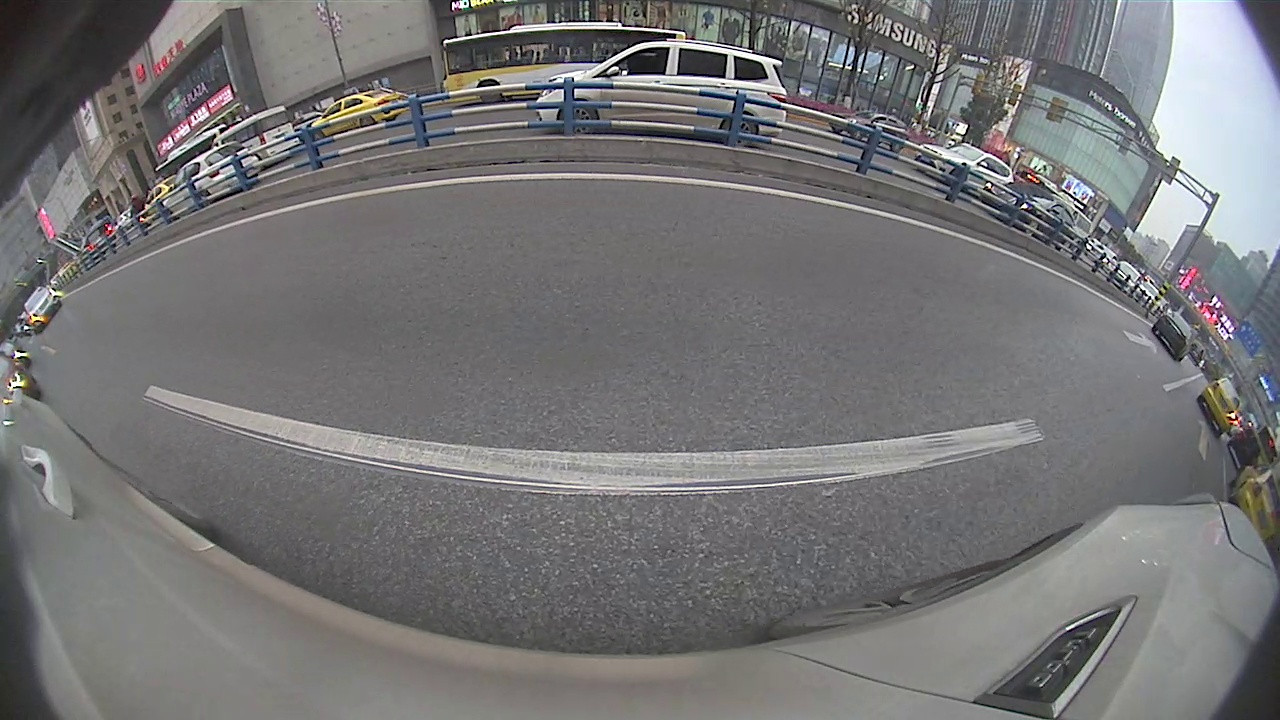bus: (438, 20, 692, 110)
car: (532, 36, 791, 150), (158, 140, 264, 221), (978, 178, 1080, 252), (306, 84, 406, 137), (1150, 311, 1196, 363)
front: (558, 99, 599, 138)
rear: (719, 113, 758, 151)
